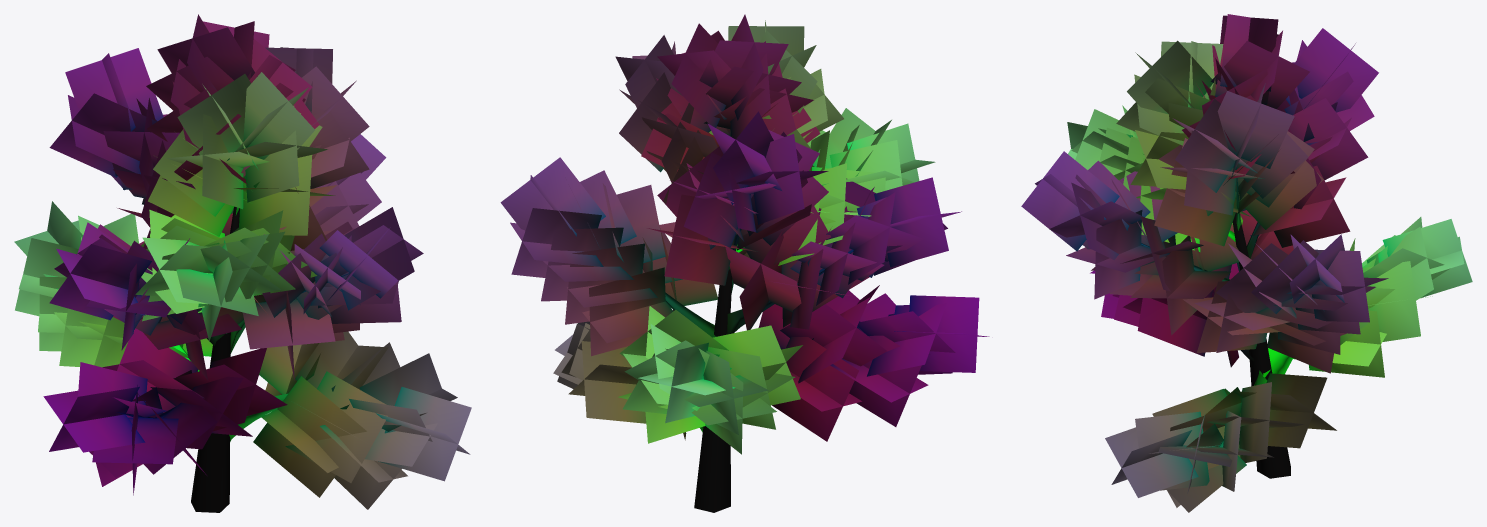
The model's file is URP_P11_Tree_2_LOD_3.fbx.
The picture shows the model from 3 angles, left to right: view 1: azimuth 30°, elevation 25°; view 2: azimuth 150°, elevation 25°; view 3: azimuth 270°, elevation 25°; orthographic projection. The views are drawn at different scales.
Visible parts, largest first — view 1: Tree_2_LOD_3; view 2: Tree_2_LOD_3; view 3: Tree_2_LOD_3.
Boxes of the visible parts, x1,y1,x2,y2 form: Tree_2_LOD_3: (14, 14, 471, 512); Tree_2_LOD_3: (500, 14, 989, 512); Tree_2_LOD_3: (1021, 14, 1472, 512).
Size of the model in its own units: 612 by 703 by 634.
